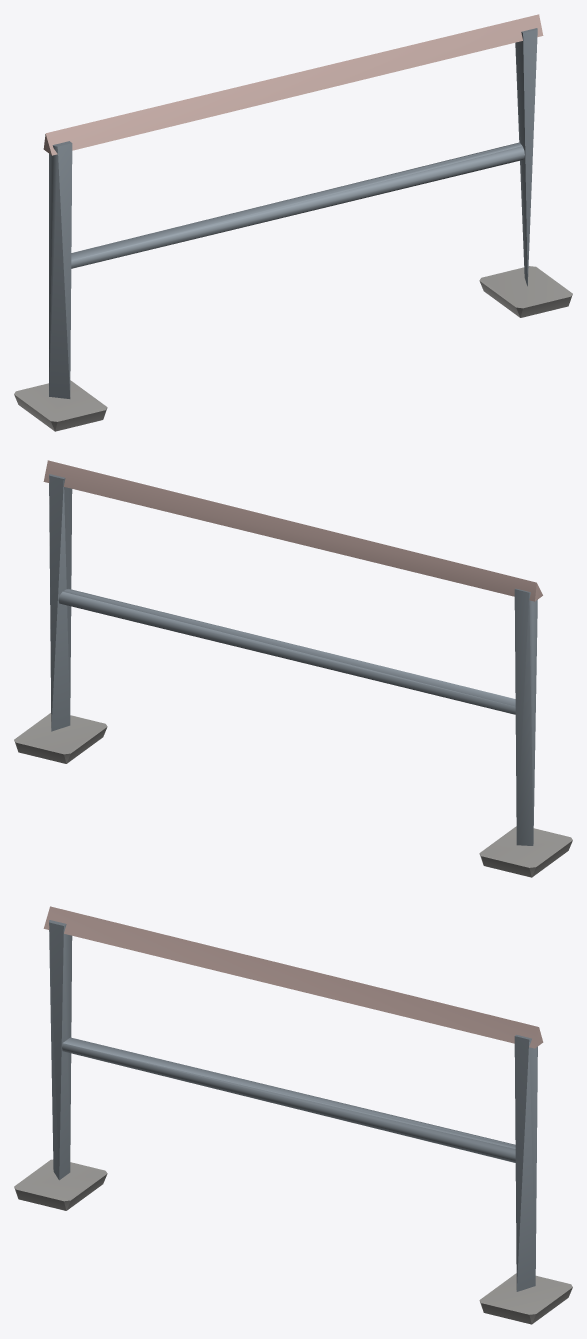
The model's file is rail.lod2.glb.
3 renders of one model, top to bottom at view 1: azimuth 30°, elevation 25°; view 2: azimuth 150°, elevation 25°; view 3: azimuth 330°, elevation 25°, orthographic.
Size of the model in its own units: 2.02 by 1.04 by 0.28.
